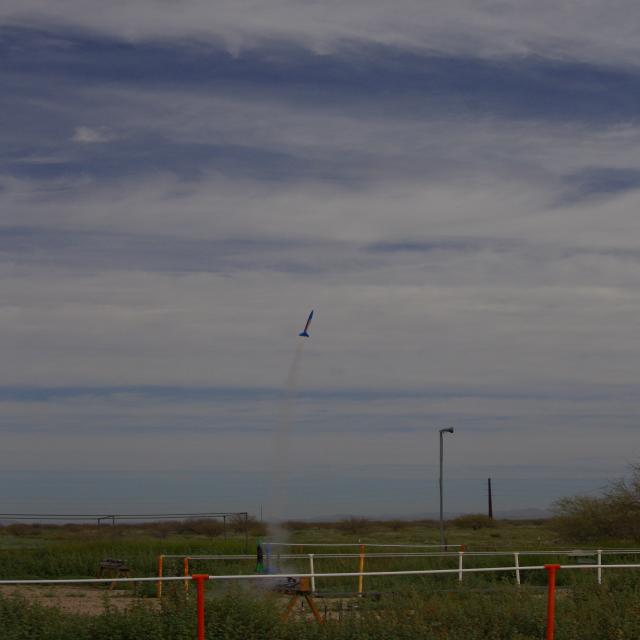Rocket: (298, 309, 314, 338), (254, 536, 266, 574), (264, 542, 276, 575), (274, 550, 284, 575)
